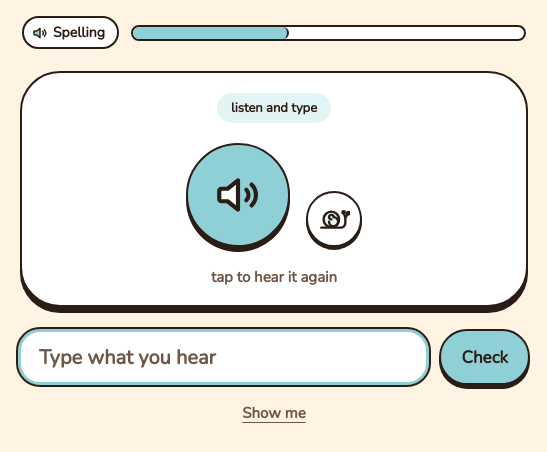
Test: SpellingScreen: not quite (canvas P6) › "Show me" counts as wrong and shows only the word
This screenshot has width=547, height=452.
Click the button "Show me" at (274, 413), box [226,391,322,435]
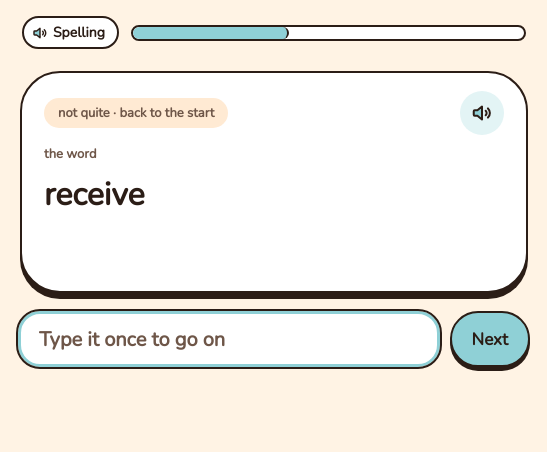
Check: the text "receive" is shown, box [44,173,144,216]
